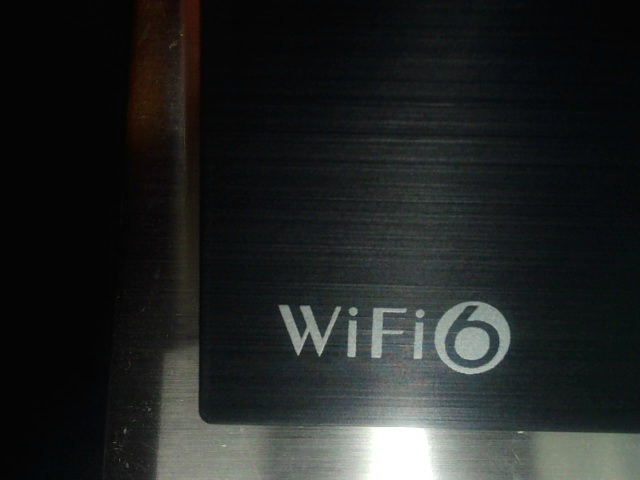AK_ZTEWIFI6Black: (260, 288, 531, 382)
